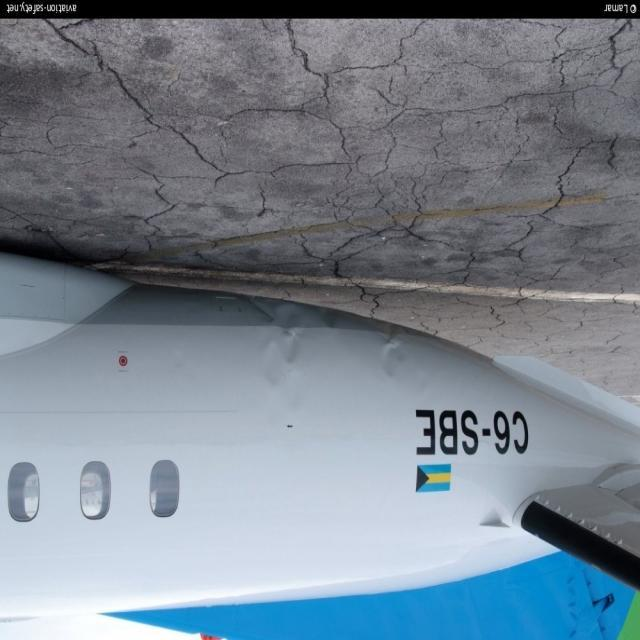dent: (257, 300, 318, 417), (372, 324, 407, 395)
